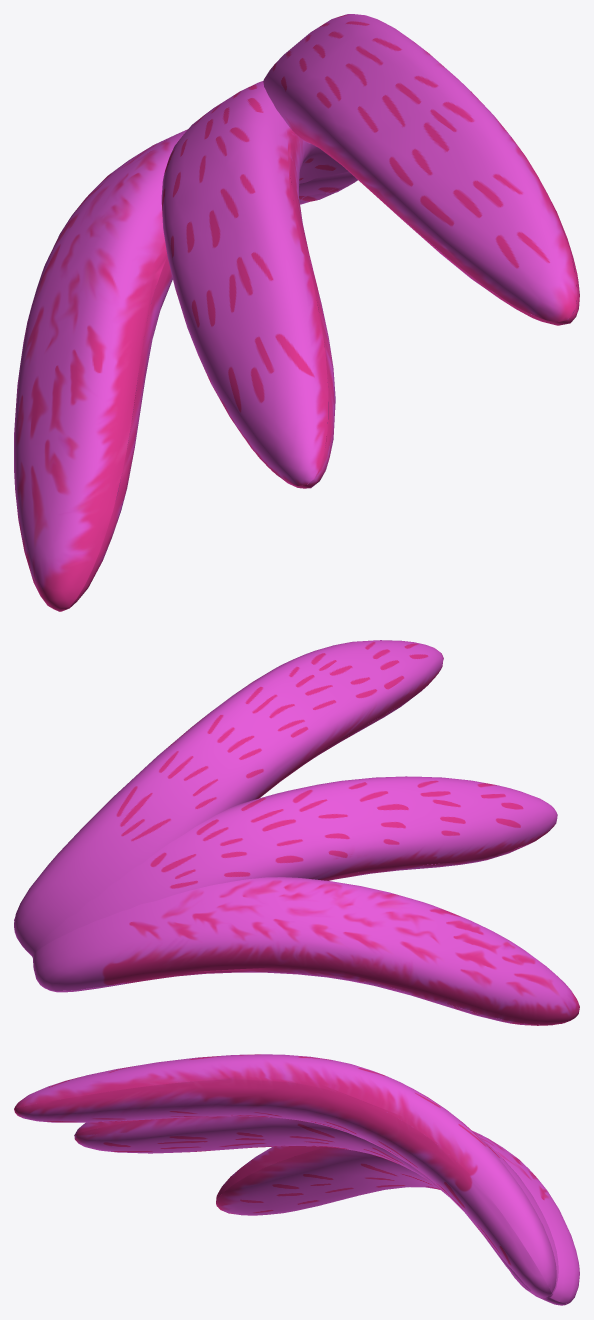
File: sculpture_10.glb
3 views of the same model, one above another, from view 1: azimuth 30°, elevation 25°; view 2: azimuth 150°, elevation 25°; view 3: azimuth 270°, elevation 25° (orthographic). The views are drawn at different scales.
Visible parts, largest first — view 1: SCL_01_02; view 2: SCL_01_02; view 3: SCL_01_02.
Part boxes in pixels (<box>): SCL_01_02: <box>14,14,579,611</box>; SCL_01_02: <box>14,640,579,1025</box>; SCL_01_02: <box>14,1054,579,1305</box>.
Size of the model in its own units: 0.29 by 0.2028 by 0.366.
1 material, 1 textured.
